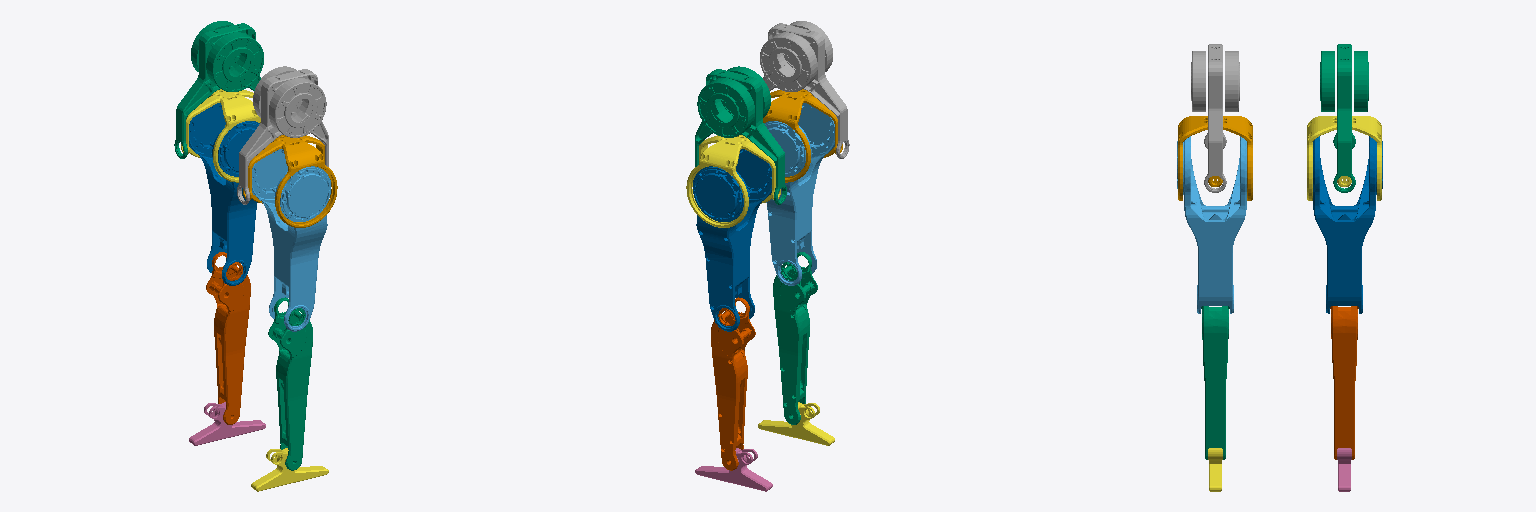
The robot description file, URDF, robot "TELLO_Serial":
<robot name="TELLO_Serial">
	<link name="World">
		<inertial>
			<mass value = "0"/>
			<origin xyz = "0 0 0"/>
			<inertia ixx = "0" ixy = "0" ixz = "0" iyy = "0" iyz = "0" izz = "0"/>
		</inertial>
		<visual>
			<geometry>
				<box size="0.001 0.001 0.001" />
			</geometry>
		</visual>
	</link>
	<joint name="W2B" type="continuous">
		<axis xyz="0  0  1"/>
		<origin rpy="0 0 0" xyz="0 0 0"/>
		<parent link="World"/>
		<child link="Torso"/>
	</joint>
	<link name="Torso">
		<inertial>
			<mass value="7.4074"/>
			<origin xyz="0.000820 -0.000510 0.068490"/>
			<inertia ixx="0.123392842" ixy="0.000011418" ixz="0.000282641" iyy="0.051124300" iyz="0.000590704" izz="0.094184572"/>
		</inertial>
		<visual>
			<geometry>
				<mesh filename="meshes/torso.STL" scale="1 1 1"/>
			</geometry>
		</visual>
	</link>
	<link name="Clamp_L">
		<inertial>
			<mass value="1.4131"/>
			<origin xyz="-0.000810 0.000000 -0.006030"/>
			<inertia ixx="0.002472479" ixy="-0.000000366" ixz="0.000094748" iyy="0.003130314" iyz="-0.000000557" izz="0.002036108"/>
		</inertial>
		<visual>
			<geometry>
				<mesh filename="meshes/clamp.STL" scale="1 1 1"/>
			</geometry>
		</visual>
	</link>
	<link name="Gimbal_L">
		<inertial>
			<mass value="0.3254"/>
			<origin xyz="-0.001740 0.000000 0.013670"/>
			<inertia ixx="0.001224110" ixy="0.000000000" ixz="-0.000003658" iyy="0.001044265" iyz="0.000000001" izz="0.001251193"/>
		</inertial>
		<visual>
			<geometry>
				<mesh filename="meshes/gimbal.STL" scale="1 1 1"/>
			</geometry>
		</visual>
	</link>
	<link name="Thigh_L">
		<inertial>
			<mass value="1.2175"/>
			<origin xyz="0.003710 -0.007020 -0.152690"/>
			<inertia ixx="0.011846092" ixy="0.000032415" ixz="0.000045887" iyy="0.011578092" iyz="0.000670634" izz="0.001868313"/>
		</inertial>
		<visual>
			<geometry>
				<mesh filename="meshes/thigh.STL" scale="1 1 1"/>
			</geometry>
		</visual>
	</link>
	<link name="Shank_L">
		<inertial>
			<mass value="0.8861"/>
			<origin xyz="0.002270 0.005220 -0.207600"/>
			<inertia ixx="0.006722985" ixy="-0.000010421" ixz="0.000197741" iyy="0.007014165" iyz="-0.000235557" izz="0.000536398"/>
		</inertial>
		<visual>
			<geometry>
				<mesh filename="meshes/shank.STL" scale="1 1 1"/>
			</geometry>
		</visual>
	</link>
	<link name="Foot_L">
		<inertial>
			<mass value="0.1203"/>
			<origin xyz="-0.006900 0.000020 -0.012180"/>
			<inertia ixx="0.000042704" ixy="-0.000000041" ixz="-0.000009307" iyy="0.000101251" iyz="0.000000053" izz="0.000069551"/>
		</inertial>
		<visual>
			<geometry>
				<mesh filename="meshes/foot.STL" scale="1 1 1"/>
			</geometry>
		</visual>
	</link>
	<link name="Clamp_R">
		<inertial>
			<mass value="1.4131"/>
			<origin xyz="-0.000810 0.000000 -0.006030"/>
			<inertia ixx="0.002472479" ixy="-0.000000366" ixz="0.000094748" iyy="0.003130314" iyz="-0.000000557" izz="0.002036108"/>
		</inertial>
		<visual>
			<geometry>
				<mesh filename="meshes/clamp.STL" scale="1 1 1"/>
			</geometry>
		</visual>
	</link>
	<link name="Gimbal_R">
		<inertial>
			<mass value="0.3254"/>
			<origin xyz="-0.001740 0.000000 0.013670"/>
			<inertia ixx="0.001224110" ixy="0.000000000" ixz="-0.000003658" iyy="0.001044265" iyz="0.000000001" izz="0.001251193"/>
		</inertial>
		<visual>
			<geometry>
				<mesh filename="meshes/gimbal.STL" scale="1 1 1"/>
			</geometry>
		</visual>
	</link>
	<link name="Thigh_R">
		<inertial>
			<mass value="1.2175"/>
			<origin xyz="0.003710 -0.007020 -0.152690"/>
			<inertia ixx="0.011846092" ixy="0.000032415" ixz="0.000045887" iyy="0.011578092" iyz="0.000670634" izz="0.001868313"/>
		</inertial>
		<visual>
			<geometry>
				<mesh filename="meshes/thigh.STL" scale="1 1 1"/>
			</geometry>
		</visual>
	</link>
	<link name="Shank_R">
		<inertial>
			<mass value="0.8861"/>
			<origin xyz="0.002270 0.005220 -0.207600"/>
			<inertia ixx="0.006722985" ixy="-0.000010421" ixz="0.000197741" iyy="0.007014165" iyz="-0.000235557" izz="0.000536398"/>
		</inertial>
		<visual>
			<geometry>
				<mesh filename="meshes/shank.STL" scale="1 1 1"/>
			</geometry>
		</visual>
	</link>
	<link name="Foot_R">
		<inertial>
			<mass value="0.1203"/>
			<origin xyz="-0.006900 0.000020 -0.012180"/>
			<inertia ixx="0.000042704" ixy="-0.000000041" ixz="-0.000009307" iyy="0.000101251" iyz="0.000000053" izz="0.000069551"/>
		</inertial>
		<visual>
			<geometry>
				<mesh filename="meshes/foot.STL" scale="1 1 1"/>
			</geometry>
		</visual>
	</link>
	<joint name="HML_L" type="continuous">
		<axis xyz="0  0  1"/>
		<origin rpy="0 0 0" xyz="0.0000 0.1000 -0.1035"/>
		<parent link="Torso"/>
		<child link="Clamp_L"/>
	</joint>
	<joint name="HAA_L" type="continuous">
		<axis xyz="1  0  0"/>
		<origin rpy="0 0 0" xyz="0.0000 0.0000 -0.1425"/>
		<parent link="Clamp_L"/>
		<child link="Gimbal_L"/>
	</joint>
	<joint name="HFE_L" type="continuous">
		<axis xyz="0  1  0"/>
		<origin rpy="0 0 0" xyz="0.0000 0.0000 0.0000"/>
		<parent link="Gimbal_L"/>
		<child link="Thigh_L"/>
	</joint>
	<joint name="KFE_L" type="continuous">
		<axis xyz="0  1  0"/>
		<origin rpy="0 0 0" xyz="0.0000 0.0000 -0.2286"/>
		<parent link="Thigh_L"/>
		<child link="Shank_L"/>
	</joint>
	<joint name="AFE_L" type="continuous">
		<axis xyz="0  1  0"/>
		<origin rpy="0 0 0" xyz="0.0000 0.0000 -0.2600"/>
		<parent link="Shank_L"/>
		<child link="Foot_L"/>
	</joint>
	<joint name="HML_R" type="continuous">
		<axis xyz="0  0  1"/>
		<origin rpy="0 0 0" xyz="0.0000 -0.1000 -0.1035"/>
		<parent link="Torso"/>
		<child link="Clamp_R"/>
	</joint>
	<joint name="HAA_R" type="continuous">
		<axis xyz="1  0  0"/>
		<origin rpy="0 0 0" xyz="0.0000 0.0000 -0.1425"/>
		<parent link="Clamp_R"/>
		<child link="Gimbal_R"/>
	</joint>
	<joint name="HFE_R" type="continuous">
		<axis xyz="0  1  0"/>
		<origin rpy="0 0 0" xyz="0.0000 0.0000 0.0000"/>
		<parent link="Gimbal_R"/>
		<child link="Thigh_R"/>
	</joint>
	<joint name="KFE_R" type="continuous">
		<axis xyz="0  1  0"/>
		<origin rpy="0 0 0" xyz="0.0000 0.0000 -0.2286"/>
		<parent link="Thigh_R"/>
		<child link="Shank_R"/>
	</joint>
	<joint name="AFE_R" type="continuous">
		<axis xyz="0  1  0"/>
		<origin rpy="0 0 0" xyz="0.0000 0.0000 -0.2600"/>
		<parent link="Shank_R"/>
		<child link="Foot_R"/>
	</joint>
</robot>

--- What the picture shows (computed from the rendered views, not written in the file) ---
Views: 3 orthographic renders of the robot side by side, from view 1: azimuth 30°, elevation 25°; view 2: azimuth 150°, elevation 25°; view 3: azimuth 270°, elevation 25°.
Robot: TELLO_Serial — 12 links, 11 joints (11 continuous); root link World; default pose: every joint at zero.
Visible links, largest first — view 1: Thigh_R, Thigh_L, Clamp_R, Clamp_L, Shank_R, Shank_L, Gimbal_R, Gimbal_L, Foot_R, Foot_L; view 2: Thigh_L, Thigh_R, Clamp_L, Clamp_R, Shank_L, Shank_R, Gimbal_L, Gimbal_R, Foot_L, Foot_R; view 3: Thigh_L, Thigh_R, Clamp_L, Clamp_R, Shank_L, Shank_R, Gimbal_L, Gimbal_R, Foot_L, Foot_R.
Link boxes in pixels (x1,y1,x2,y2): Thigh_R: (252,149,330,331); Thigh_L: (189,103,259,285); Clamp_R: (237,66,328,204); Clamp_L: (174,21,263,158); Shank_R: (268,297,312,470); Shank_L: (206,252,250,424); Gimbal_R: (243,135,337,227); Gimbal_L: (181,89,260,182); Foot_R: (251,448,328,491); Foot_L: (189,402,265,445); Thigh_L: (693,149,771,331); Thigh_R: (764,103,834,285); Clamp_L: (695,66,786,204); Clamp_R: (760,21,849,158); Shank_L: (711,297,755,470); Shank_R: (773,252,817,424); Gimbal_L: (686,135,780,227); Gimbal_R: (763,89,842,182); Foot_L: (695,448,772,491); Foot_R: (758,402,834,445); Thigh_L: (1313,136,1382,313); Thigh_R: (1177,136,1246,313); Clamp_L: (1320,44,1368,192); Clamp_R: (1191,44,1239,192); Shank_L: (1330,306,1358,459); Shank_R: (1201,306,1229,459); Gimbal_L: (1307,116,1381,200); Gimbal_R: (1178,116,1252,200); Foot_L: (1337,448,1351,491); Foot_R: (1208,448,1222,491).
Size in the robot's own frame: 0.1565 by 0.3179 by 0.7751 metres.
10 mesh visuals loaded from 6 distinct referenced files (5 binary STL); not drawn: 1 (reference not matched to a file when rendering).